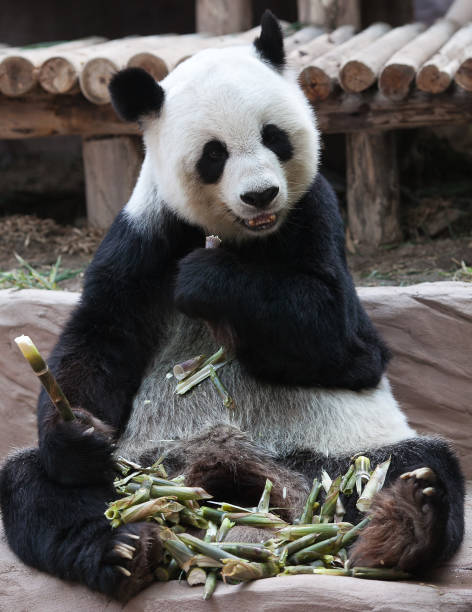panda: (86, 1, 366, 264)
